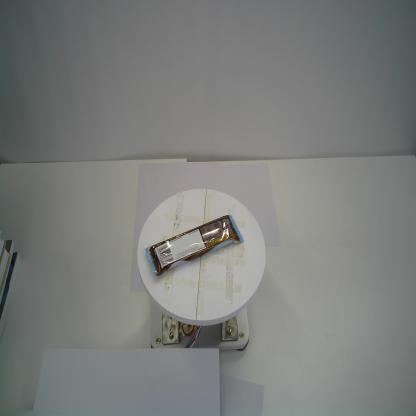Chocolate: (144, 214, 244, 276)
